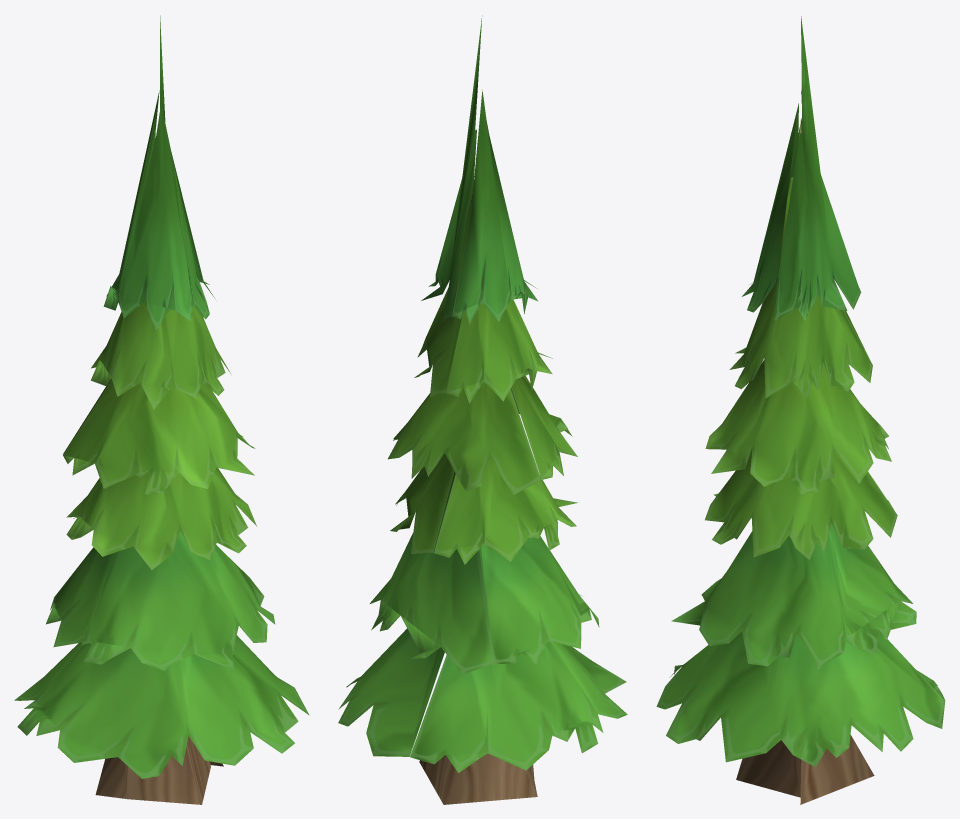
The model's file is tree_lod2.glb.
3 views of the same model, side by side, from view 1: azimuth 30°, elevation 25°; view 2: azimuth 150°, elevation 25°; view 3: azimuth 270°, elevation 25° (orthographic).
Parts seen in each view (by area): view 1: tree_low.001; view 2: tree_low.001; view 3: tree_low.001.
Boxes of the visible parts, box(x1,y1,x2,y2) form: tree_low.001: box(14, 15, 309, 804); tree_low.001: box(338, 15, 627, 804); tree_low.001: box(656, 16, 945, 804).
Size of the model in its own units: 158 by 465 by 160.
Materials: 1 (1 with a texture image).
